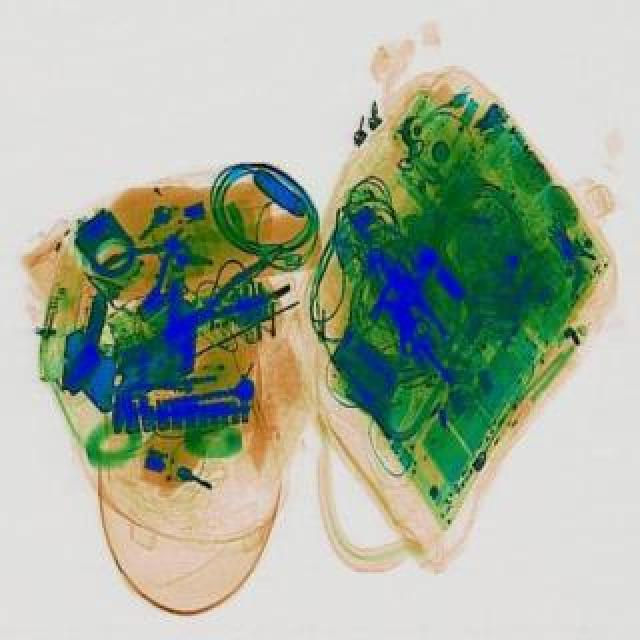wrench: (164, 258, 296, 352), (98, 212, 214, 318)
